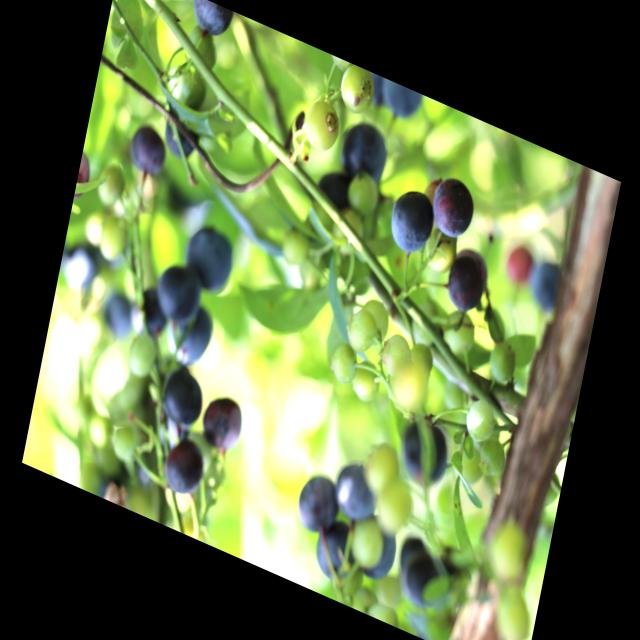blueberry: (389, 412, 454, 502), (176, 213, 242, 299), (421, 166, 481, 251), (161, 296, 221, 378), (333, 117, 392, 195), (385, 182, 438, 262), (196, 385, 249, 463), (156, 430, 211, 504), (151, 260, 206, 331), (156, 362, 208, 437), (328, 460, 382, 530), (293, 468, 344, 541), (353, 518, 402, 590), (443, 243, 491, 316), (310, 165, 362, 231), (313, 515, 360, 584), (396, 548, 445, 613), (184, 0, 237, 49), (159, 109, 202, 168), (528, 256, 566, 319), (97, 288, 140, 343), (377, 77, 421, 129), (126, 125, 166, 181), (131, 291, 170, 343)
blueberry-unripe: (338, 61, 380, 122), (439, 304, 478, 364), (302, 99, 342, 155), (343, 299, 380, 358), (380, 328, 415, 383), (475, 434, 507, 482), (465, 398, 496, 446), (329, 341, 360, 387), (352, 360, 382, 406), (489, 340, 517, 384)
